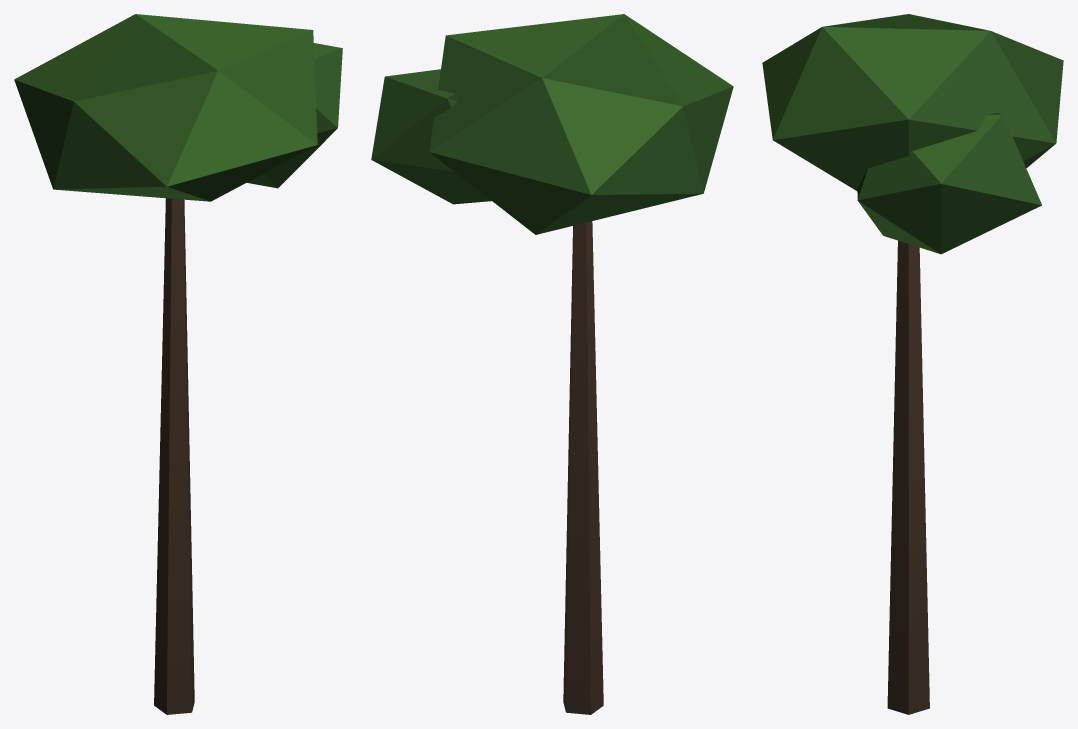
File: fr_tree_a_lod1.glb
3 renders of one model, left to right at view 1: azimuth 30°, elevation 25°; view 2: azimuth 150°, elevation 25°; view 3: azimuth 270°, elevation 25°, orthographic. The views are drawn at different scales.
Parts seen in each view (by area): view 1: fr_tree_a_lod1; view 2: fr_tree_a_lod1; view 3: fr_tree_a_lod1.
Boxes of the visible parts, x1,y1,x2,y2 form: fr_tree_a_lod1: [14, 14, 342, 714]; fr_tree_a_lod1: [371, 14, 733, 714]; fr_tree_a_lod1: [762, 14, 1063, 714].
Bounding box in the file's own units: 8.86 × 18.47 × 7.43.
